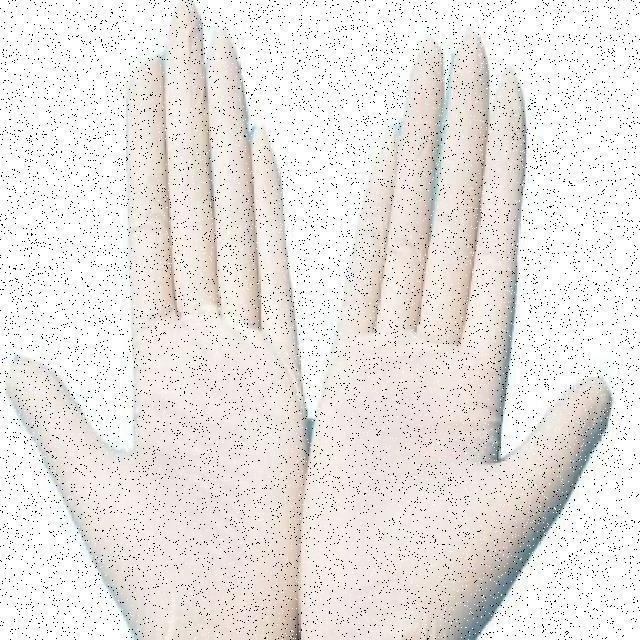Guantes: (28, 30, 338, 631), (318, 61, 619, 629)
